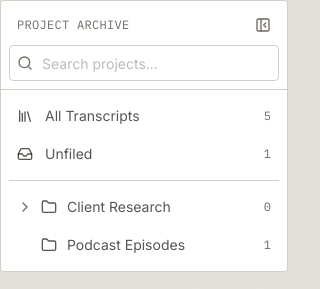
ProjectArchivePanel › search reveals matches with their ancestors and hides pinned rows
Type "follow" into the field named "Search project archive" at (144, 63), box [9,45,279,81]
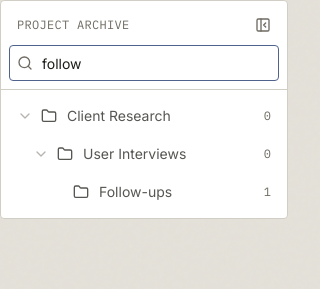
Expected: the link "User Interviews 0" is shown, [57,145,271,162]
Expected: the link "Follow-ups 1" is shown, [73,183,271,200]
Expected: the link "Podcast Episodes" is gone
Replace the text in the field named "Search project archive" with "zzz" at (144, 63), box [9,45,279,81]
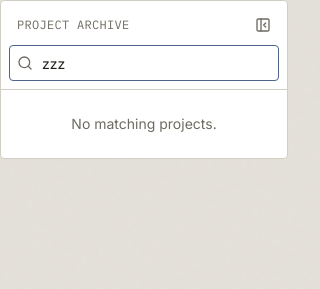
Expected: the message reads "No matching projects.", [71,115,217,132]
